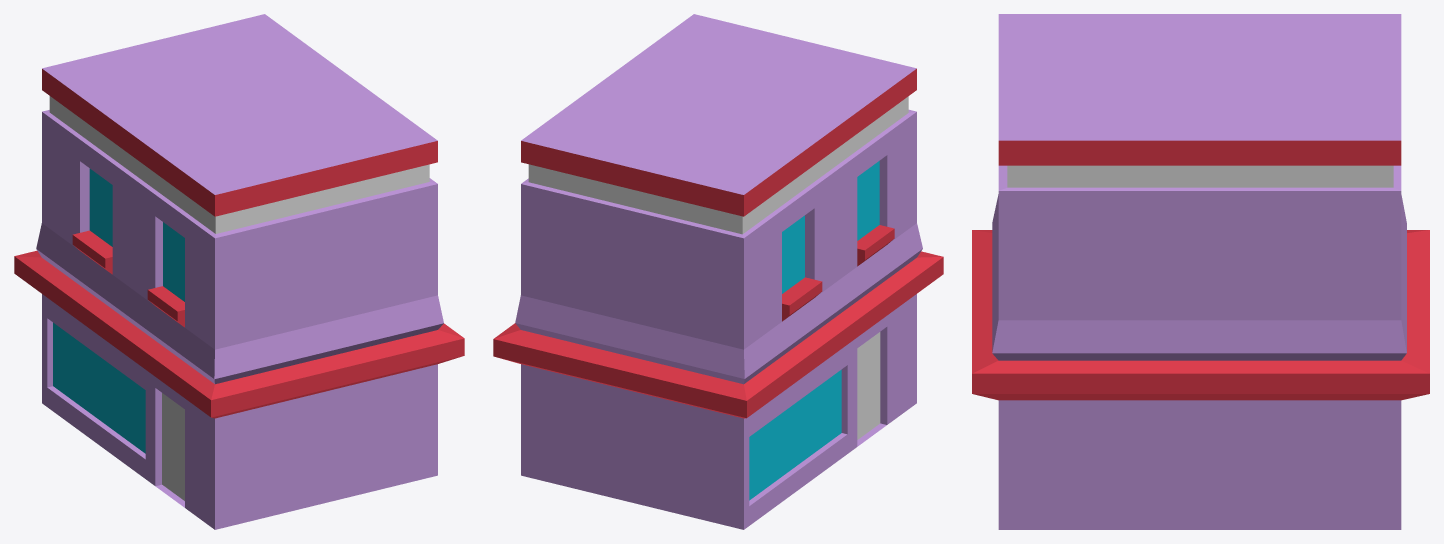
The model's file is FBX_LC_mhouse10.fbx.
3 renders of one model, left to right at view 1: azimuth 30°, elevation 25°; view 2: azimuth 150°, elevation 25°; view 3: azimuth 270°, elevation 25°, orthographic. The views are drawn at different scales.
Visible parts, largest first — view 1: FBX_LC_mHouse_10; view 2: FBX_LC_mHouse_10; view 3: FBX_LC_mHouse_10.
Part boxes in pixels (x1=…): FBX_LC_mHouse_10: x1=14, y1=14, x2=464, y2=529; FBX_LC_mHouse_10: x1=493, y1=14, x2=943, y2=529; FBX_LC_mHouse_10: x1=972, y1=14, x2=1429, y2=529.
Size of the model in its own units: 794 by 1003 by 1068.
